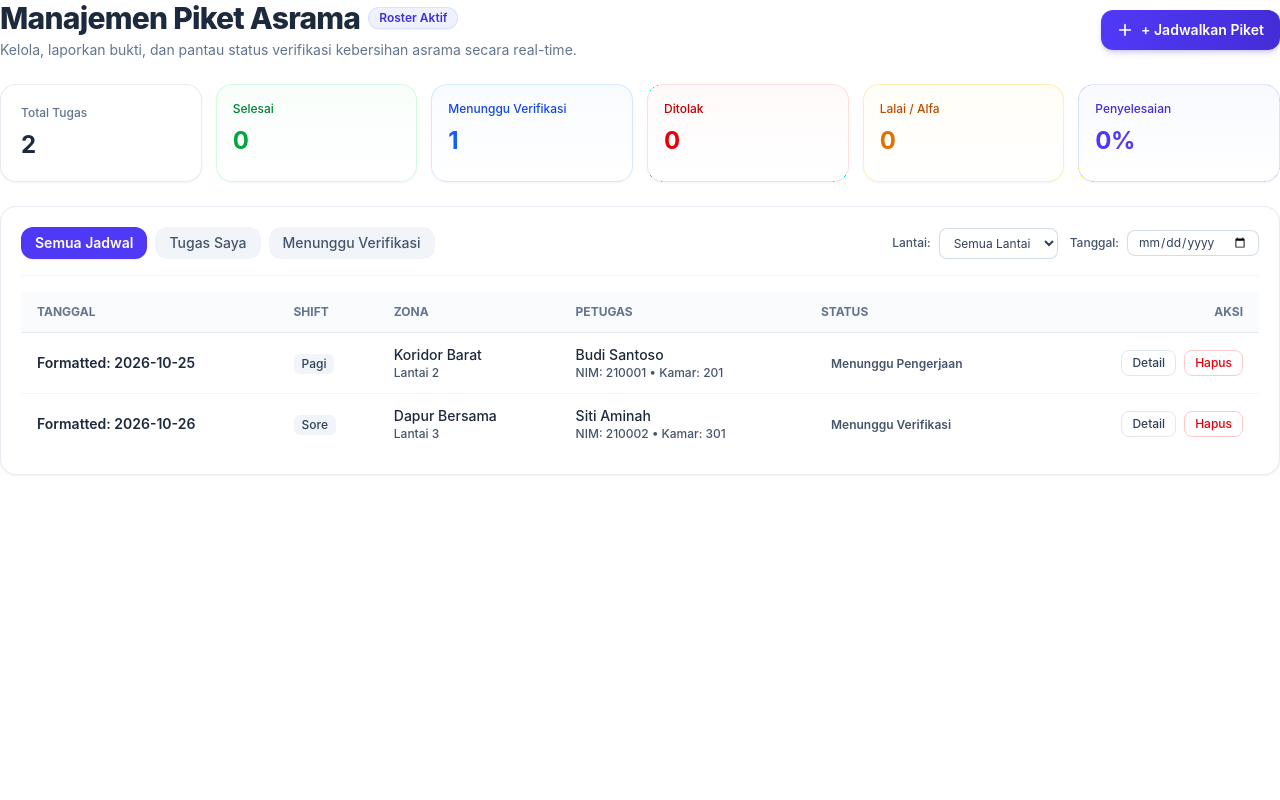
Test: HomePage › membuka modal tambah piket saat tombol diklik oleh admin dan dapat ditutup
The image size is (1280, 800).
Click the button "+ Jadwalkan Piket". click: point(1191, 30)
box: [1101,10,1279,50]
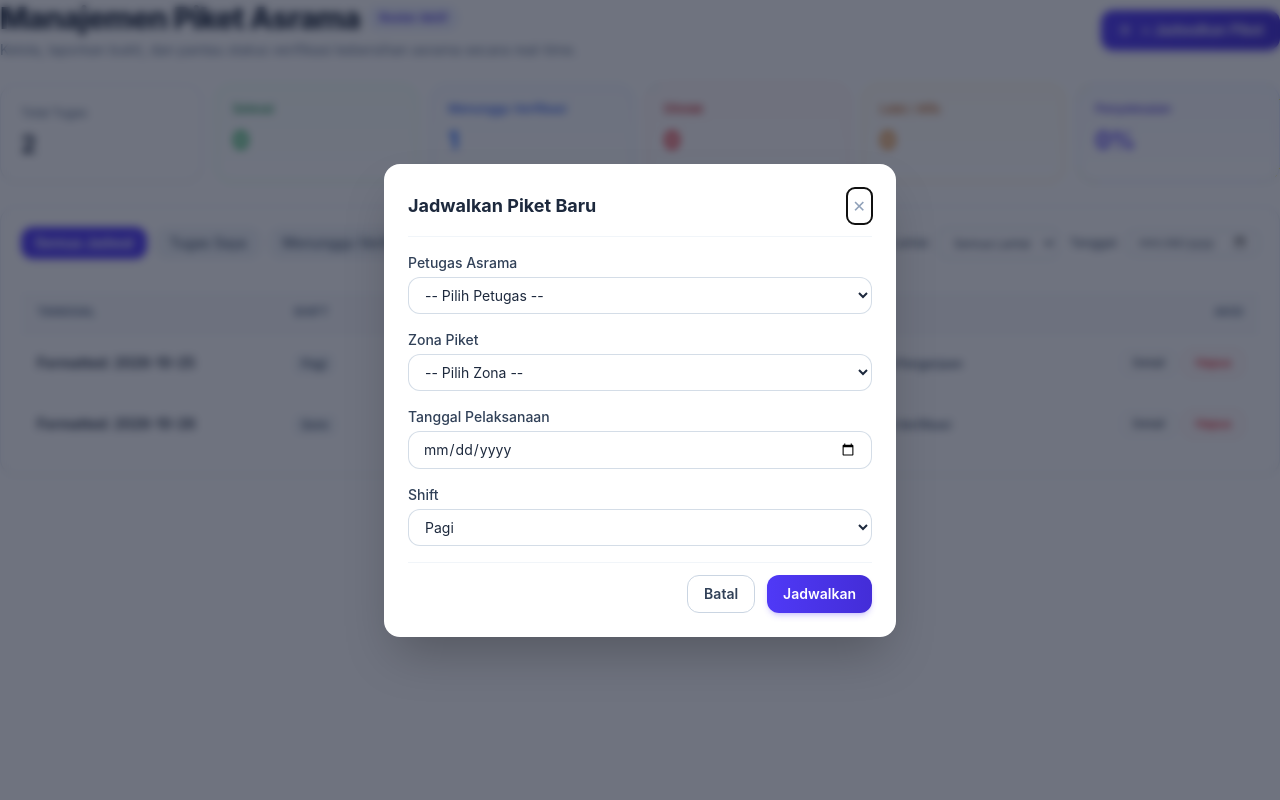
Expected: the dialog is shown
Expected: the heading "Jadwalkan Piket Baru" is shown, [408,192,596,220]
Click the button "Batal". click: point(721, 594)
box: [687,574,755,612]
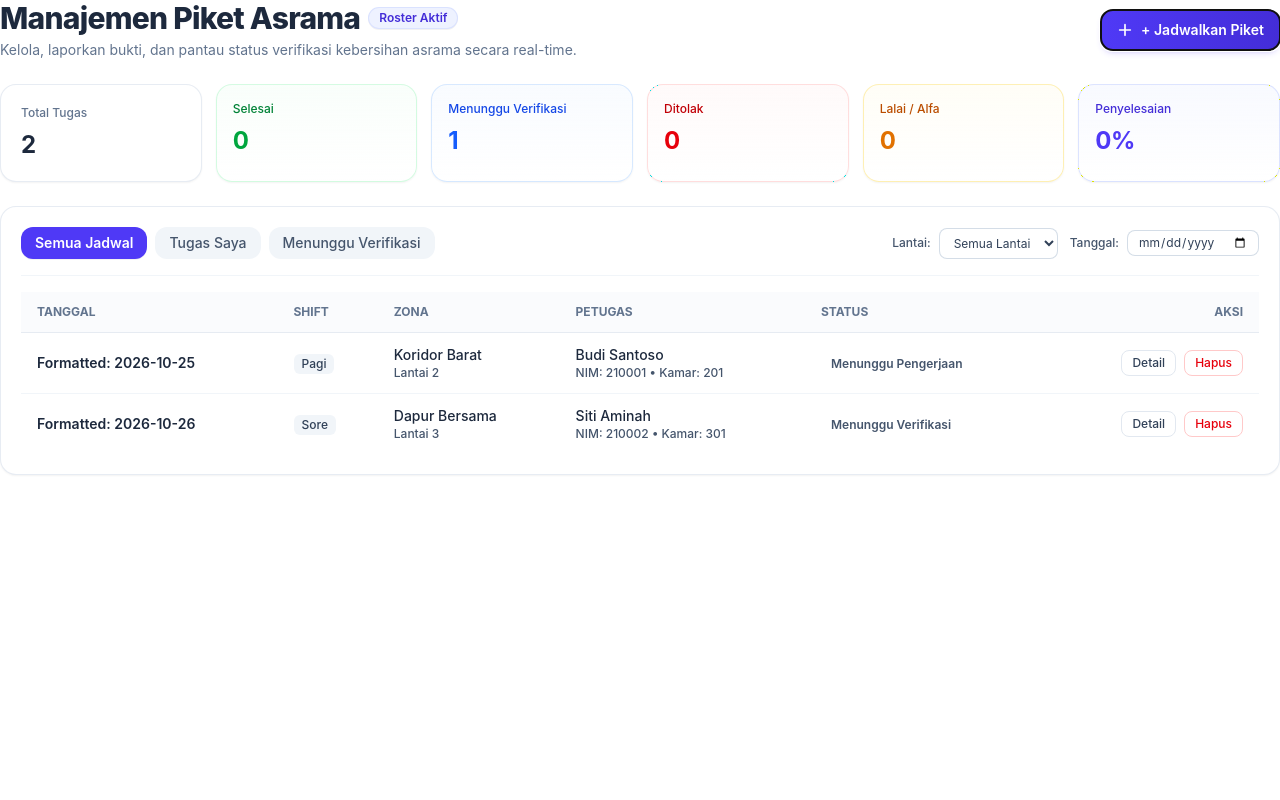
Expected: the dialog is gone
